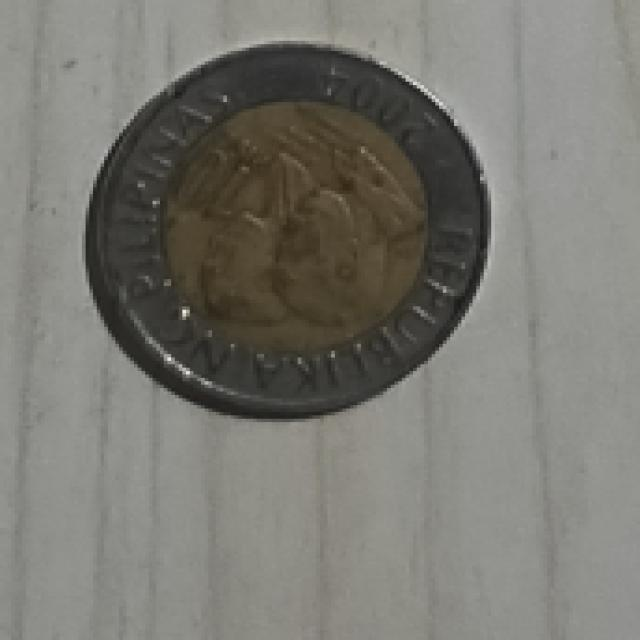10_peso: (89, 44, 484, 415)
